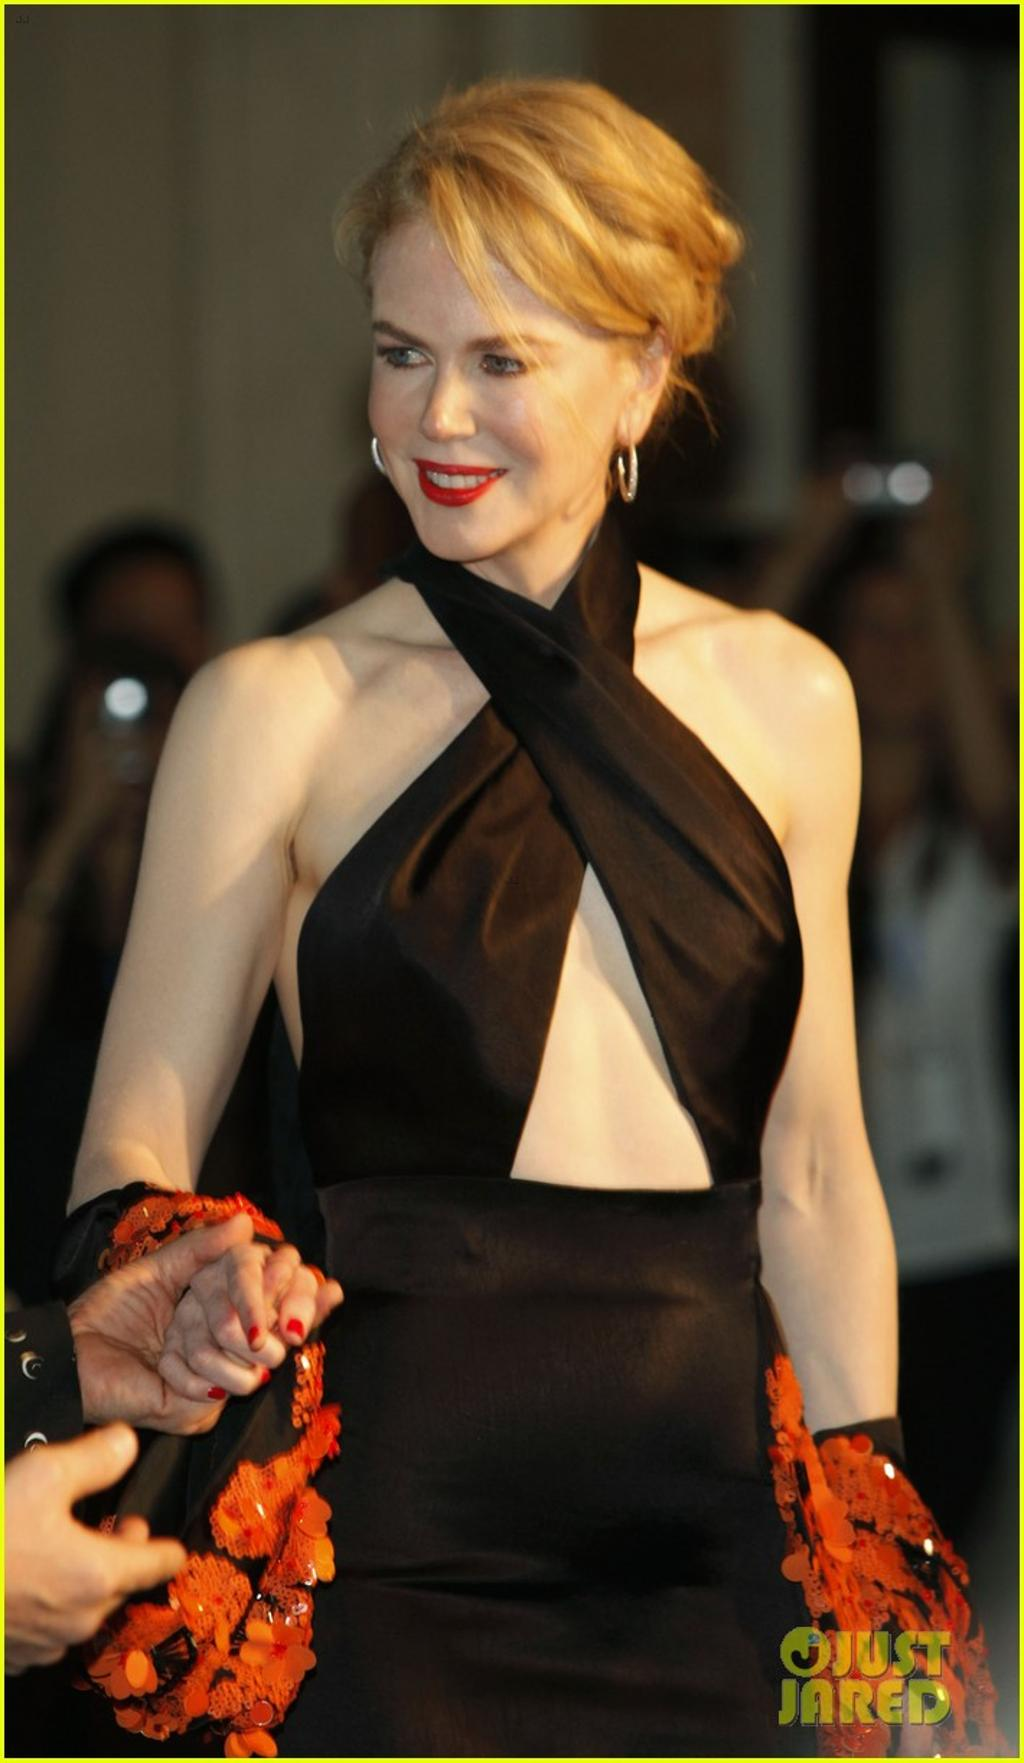face: (365, 203, 624, 562)
